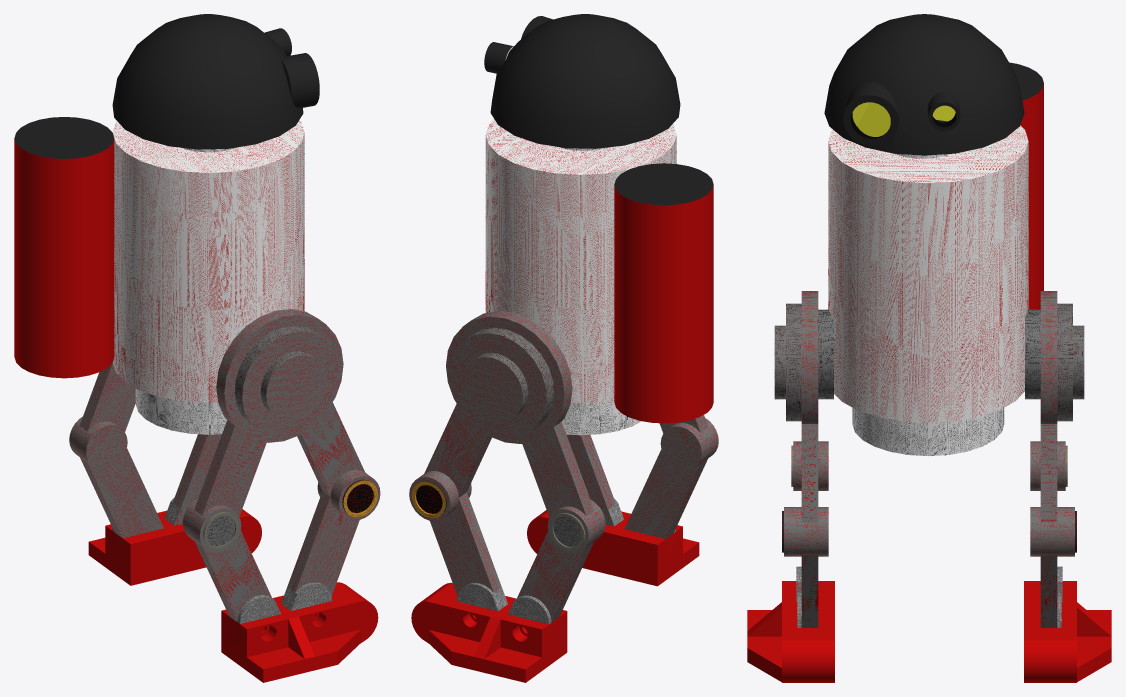
File: robotl.dae
The picture shows the model from 3 angles, left to right: view 1: azimuth 30°, elevation 25°; view 2: azimuth 150°, elevation 25°; view 3: azimuth 270°, elevation 25°; orthographic projection. The views are drawn at different scales.
Parts seen in each view (by area): view 1: SketchUp (×17); view 2: SketchUp (×18); view 3: SketchUp (×19).
Boxes of the visible parts, bbox=[...] form: SketchUp (×17): bbox=[14, 14, 380, 682]; SketchUp (×18): bbox=[409, 14, 718, 682]; SketchUp (×19): bbox=[747, 14, 1111, 682].
Size of the model in its own units: 30.73 by 35.79 by 66.9.
